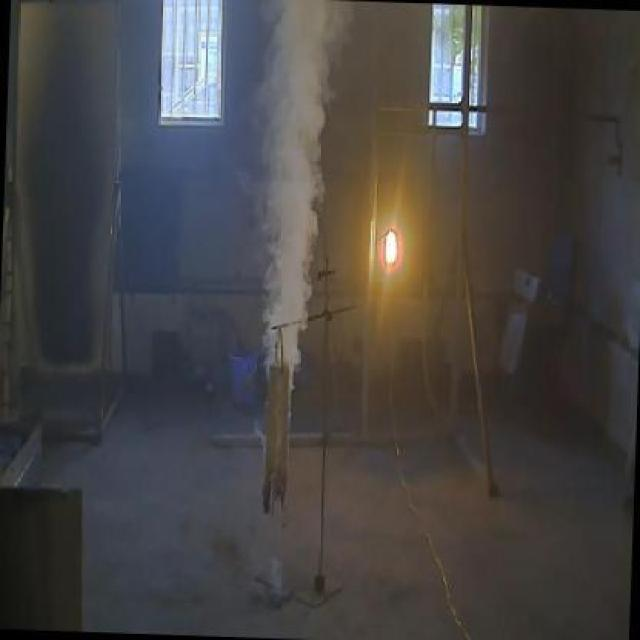fire: (251, 0, 355, 328)
